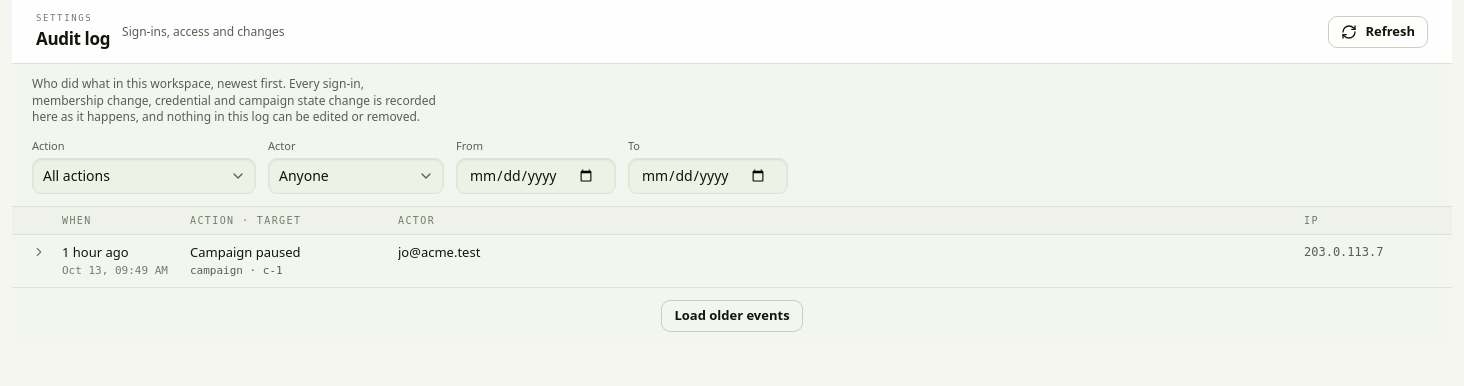
Test case: refresh refetches the first page and drops the older ones
Click the button "Load older events". click: [732, 316]
box: [661, 300, 803, 332]
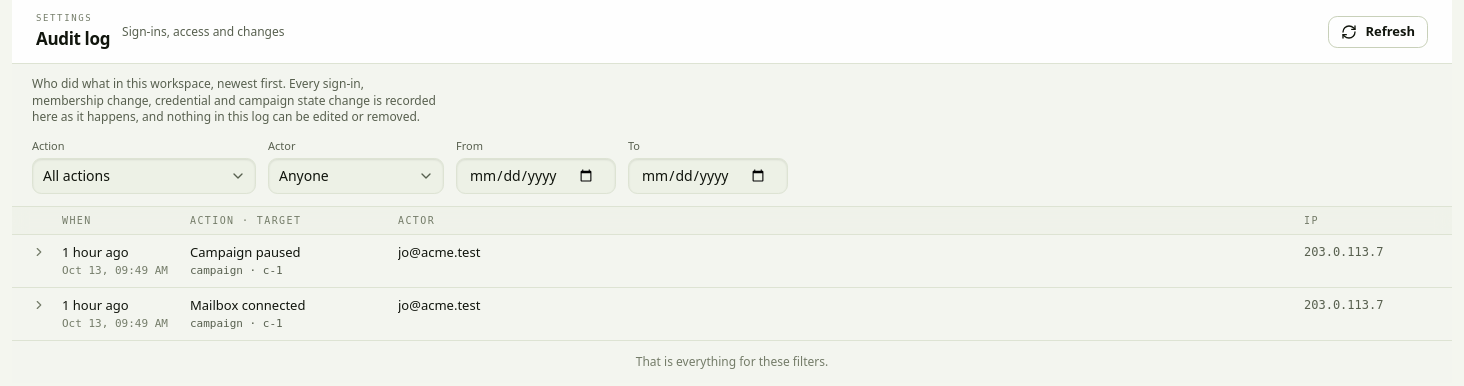
Result: the text "Mailbox connected" is shown at [190, 296, 305, 316]
Click the button "Refresh". click: [1378, 32]
box: [1328, 16, 1428, 48]
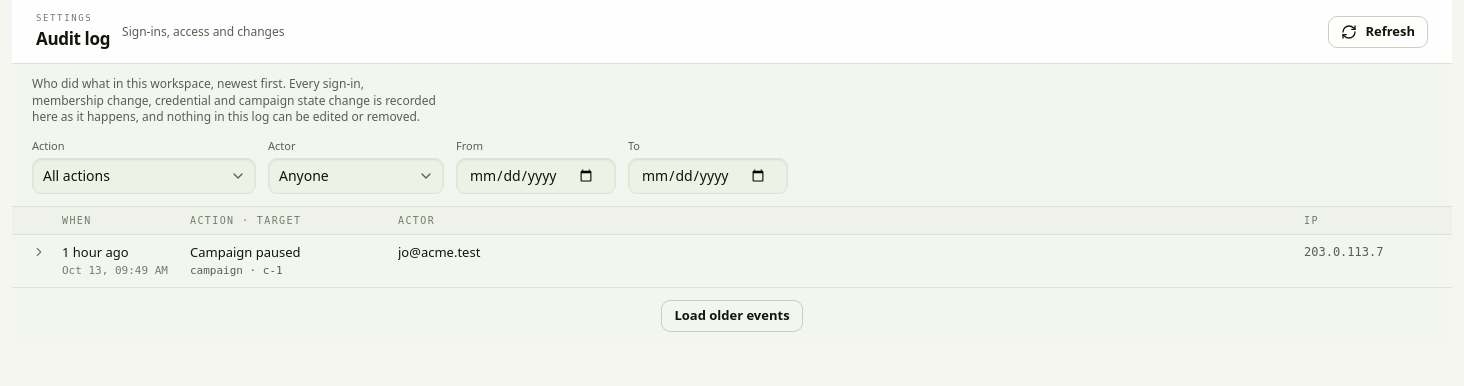
Expected: the text "Campaign paused" is shown, [190, 243, 301, 262]
Result: the button "Mailbox connected" is gone
